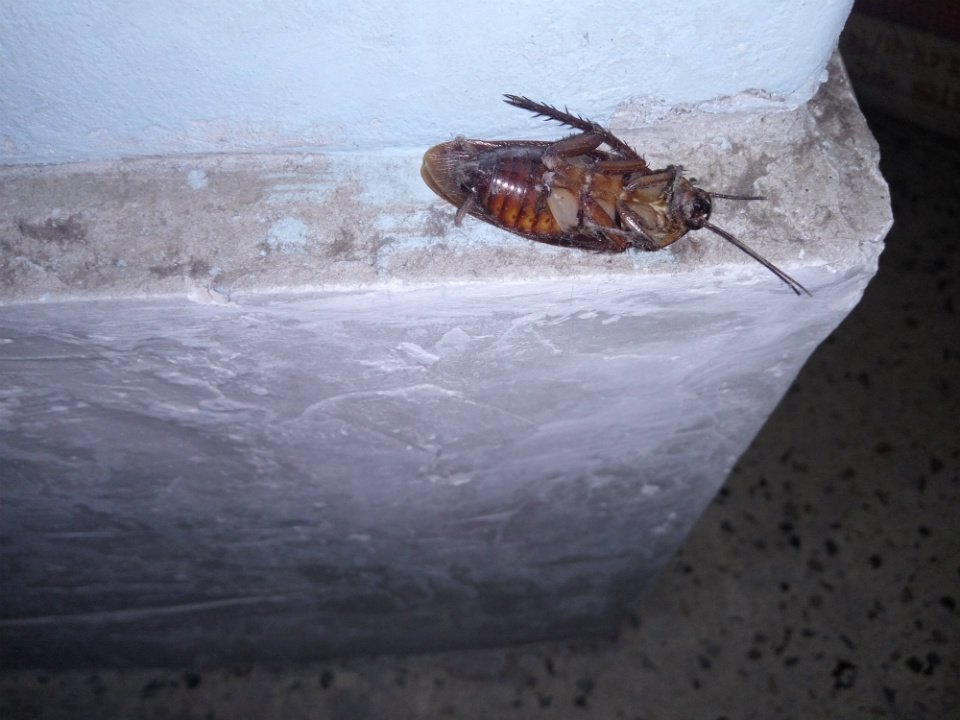cockroach: (354, 63, 838, 330)
